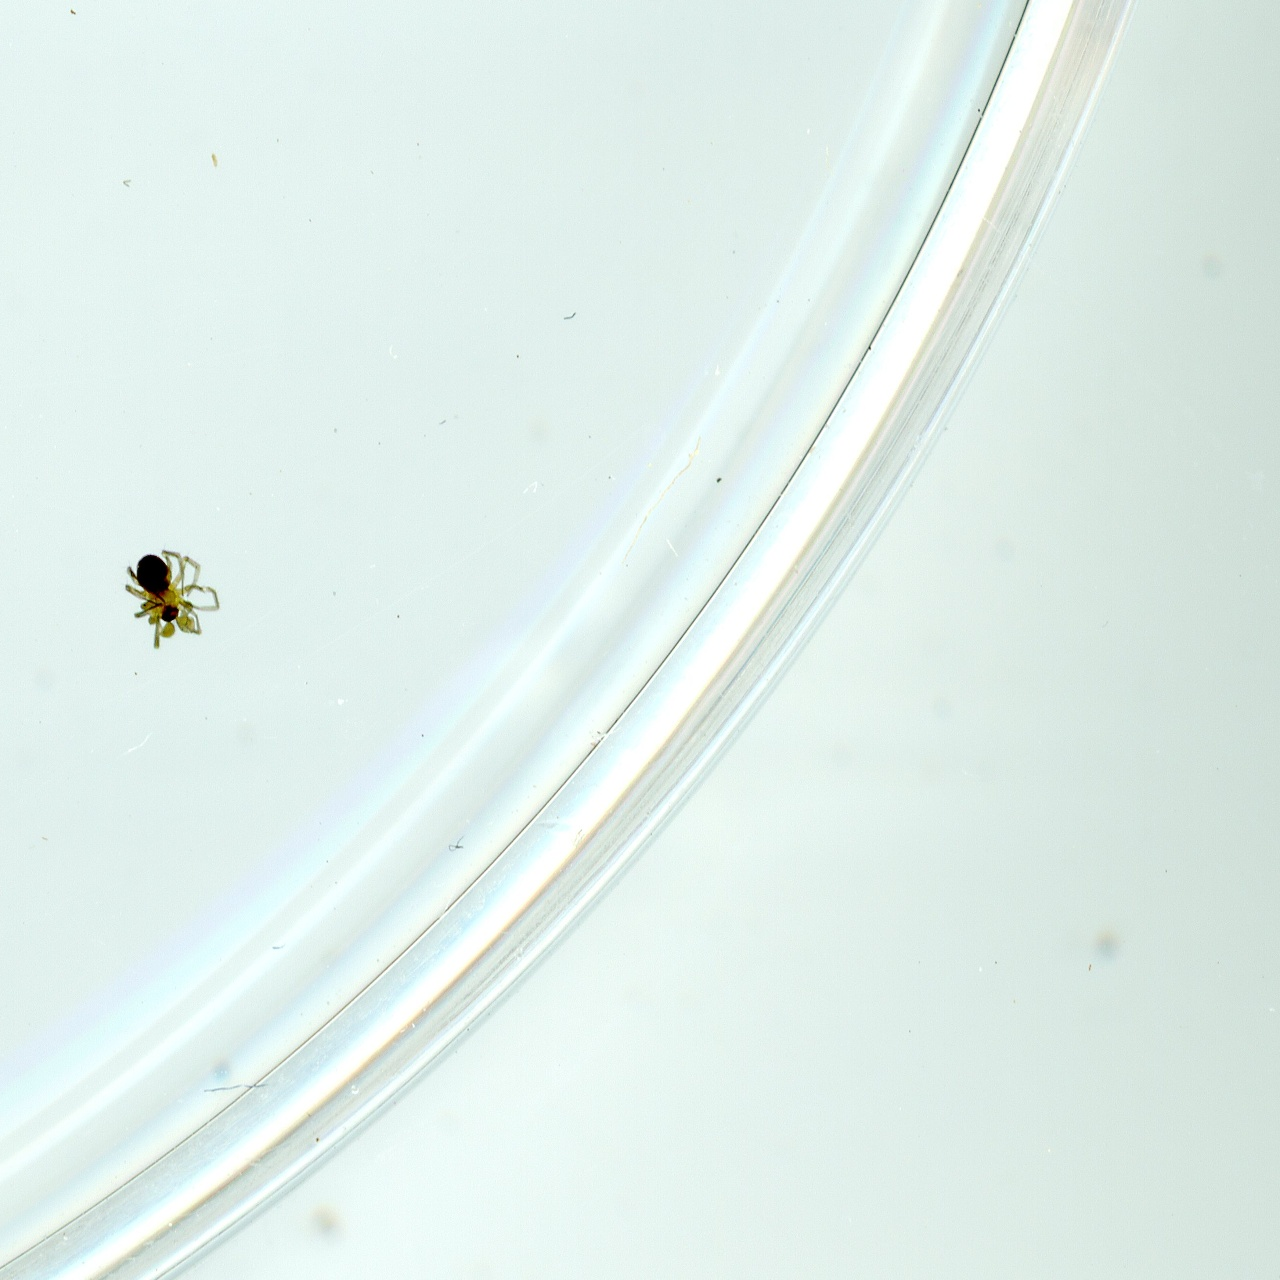arthropod: (82, 533, 230, 652)
